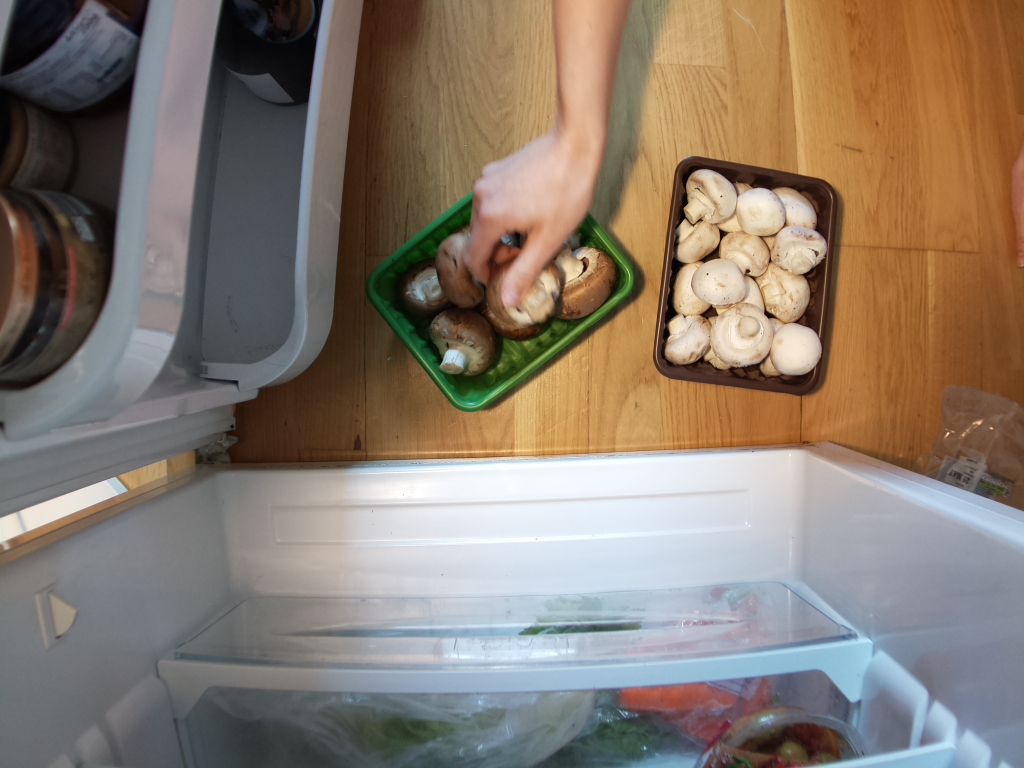mushrooms: (366, 181, 643, 416), (652, 151, 845, 395)
